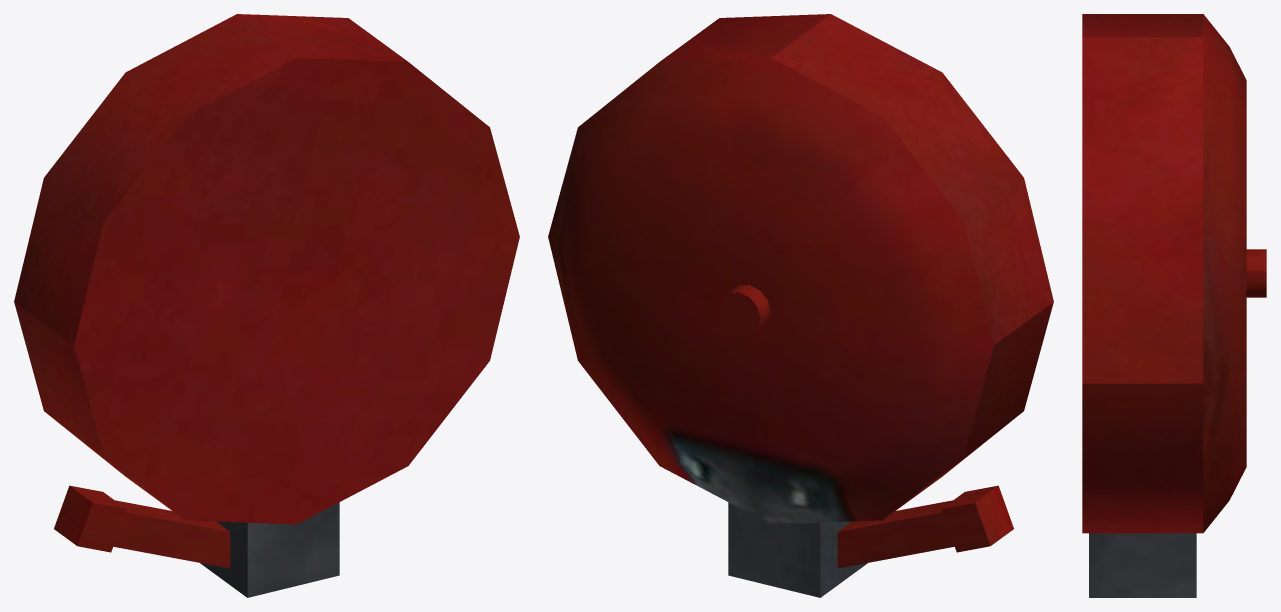
File: bell.glb
3 renders of one model, left to right at view 1: azimuth 30°, elevation 25°; view 2: azimuth 150°, elevation 25°; view 3: azimuth 270°, elevation 25°, orthographic.
Visible parts, largest first — view 1: bell; view 2: bell; view 3: bell.
Boxes of the visible parts, <box> form: bell: <box>14,14,519,597</box>; bell: <box>548,14,1053,597</box>; bell: <box>1082,14,1266,597</box>.
Bounding box in the file's own units: 2 × 2.28 × 0.7082.
Materials: 1 (1 with a texture image).
